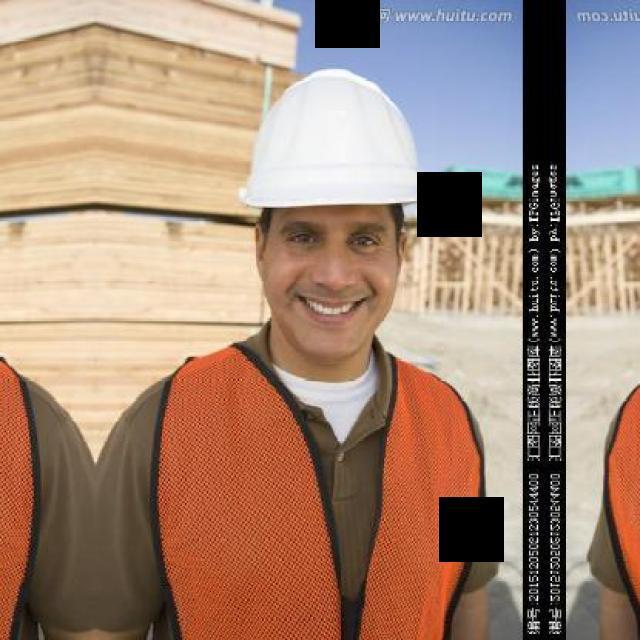white helmet: (240, 69, 431, 205)
